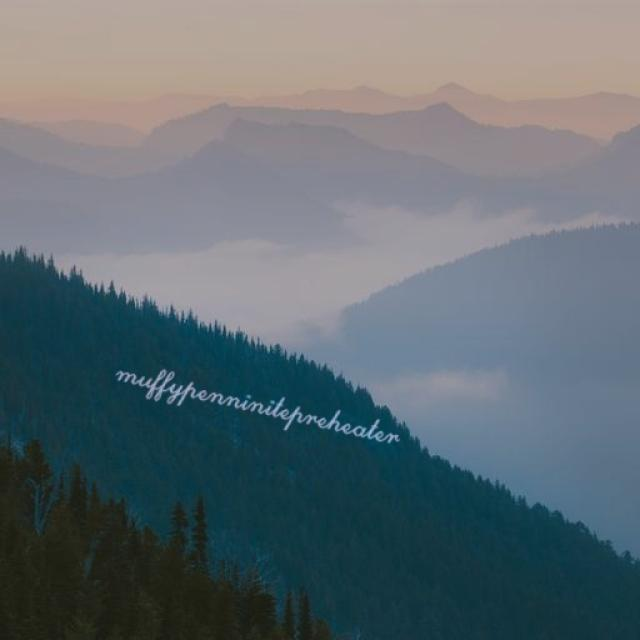watermark: (107, 356, 419, 449)
